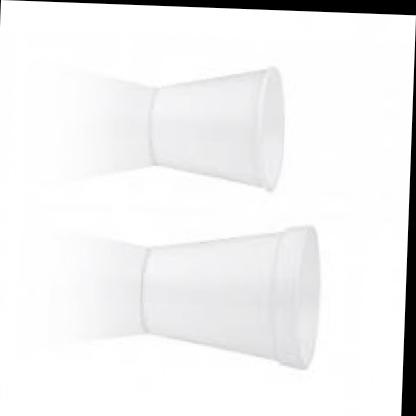Plastic: (127, 212, 340, 389), (139, 47, 307, 197)
